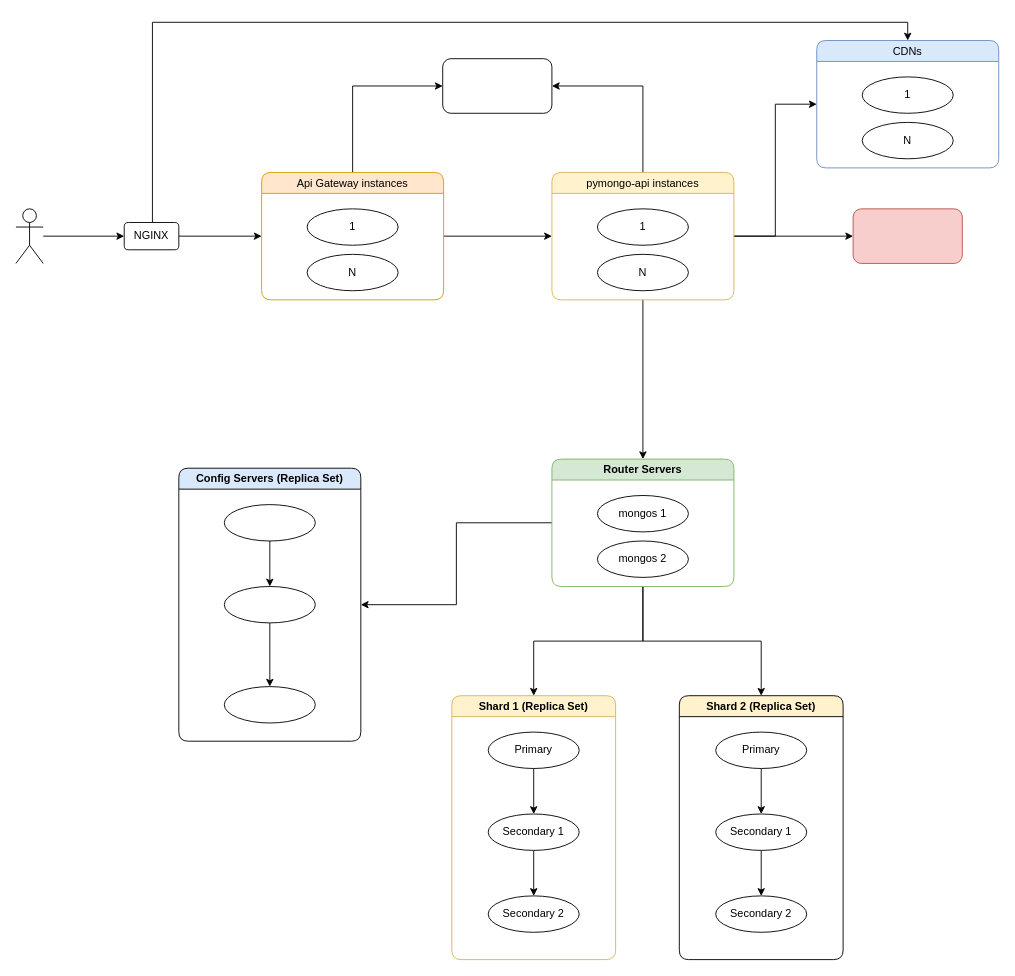
The diagram is 1015 pixels wide and 976 high, and some of its shapes have lost their labels. The centre of each missing label's shape, as x and y in pixels:
configSrv Primary: the point at 269,522
configSrv Secondary 1: the point at 269,604
configSrv Secondary 2: the point at 269,704
Consul: the point at 497,85
Redis: the point at 907,235
Users: the point at 29,235
